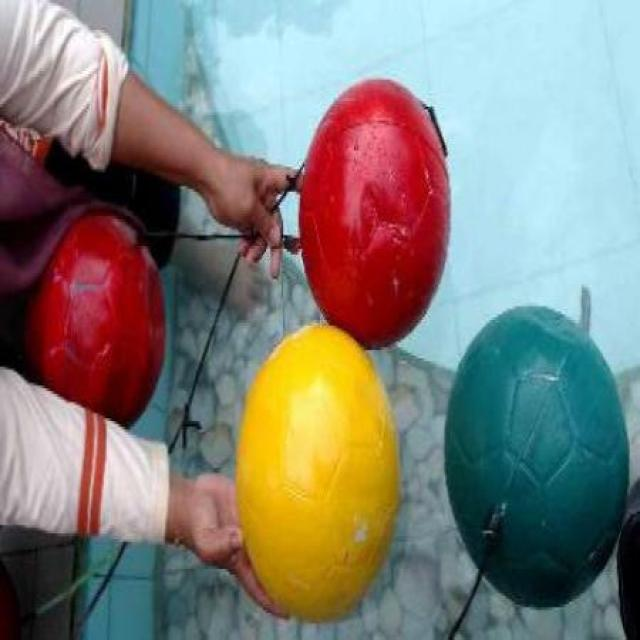buoy: (442, 303, 629, 610), (234, 319, 400, 626), (297, 77, 451, 350), (23, 210, 165, 430)
